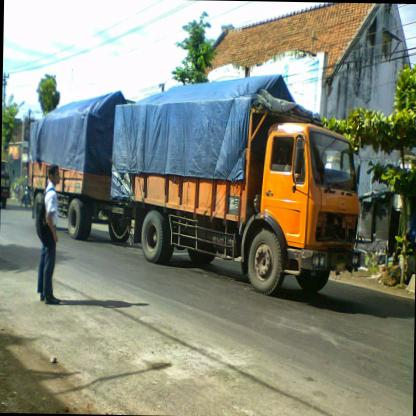truck: (258, 115, 363, 298)
